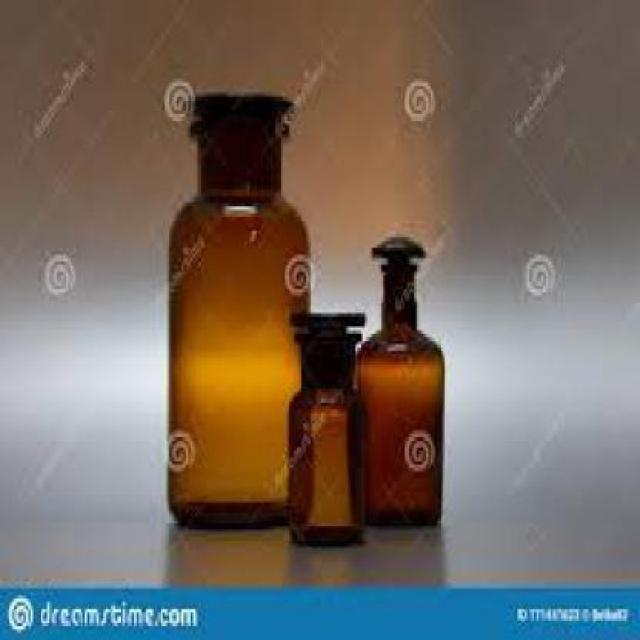kaca: (168, 89, 309, 526), (354, 234, 443, 523), (288, 309, 364, 548)
